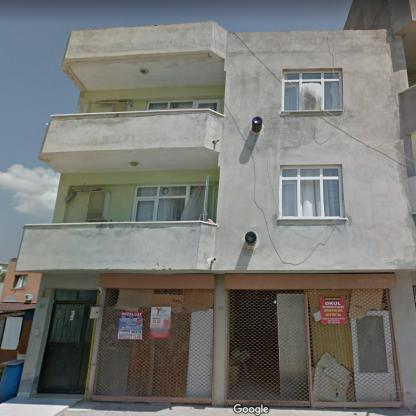door: (37, 302, 95, 393), (350, 311, 398, 401), (204, 176, 216, 220)
window: (280, 167, 344, 217), (283, 70, 341, 110), (132, 185, 190, 221), (147, 100, 220, 112), (54, 290, 96, 301), (13, 276, 26, 288)
